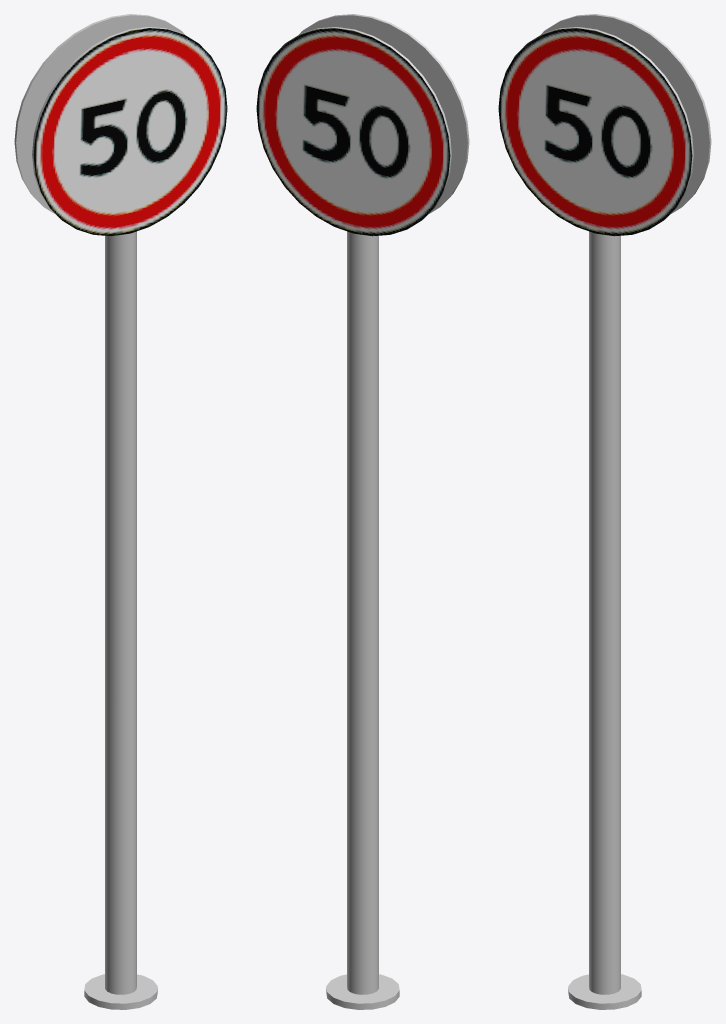
3 views of the same model, side by side, from view 1: azimuth 30°, elevation 25°; view 2: azimuth 150°, elevation 25°; view 3: azimuth 330°, elevation 25° (orthographic).
Visible parts, largest first — view 1: 3-24; view 2: 3-24; view 3: 3-24.
Part boxes in pixels (bbox=[...]): 3-24: bbox=[14, 14, 227, 1009]; 3-24: bbox=[256, 14, 469, 1009]; 3-24: bbox=[498, 14, 711, 1009].
Size of the model in its own units: 70 by 335 by 23.17.
2 materials, 1 textured.
